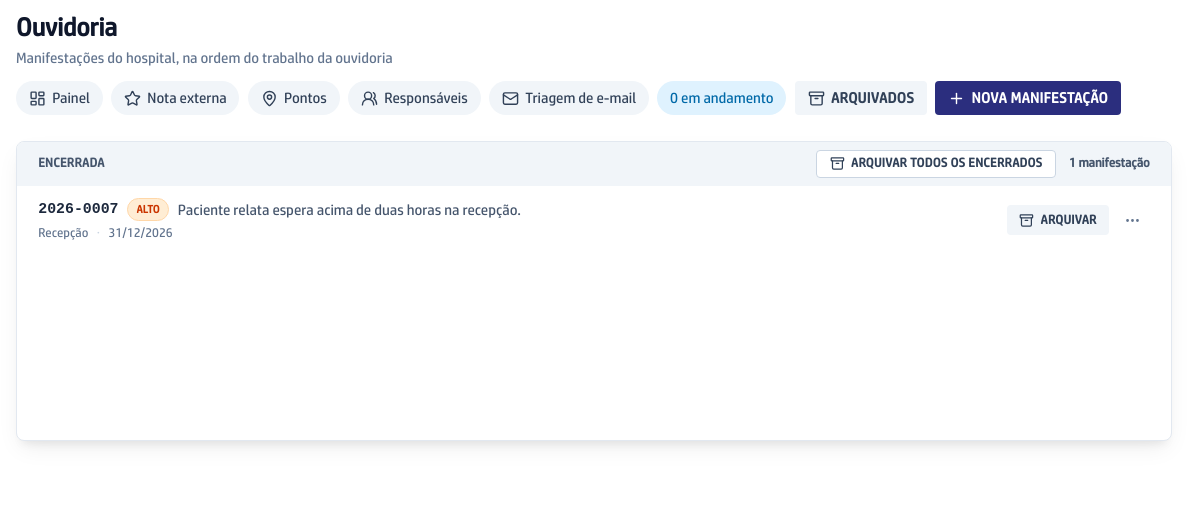
Scenario: a recusa do servidor chega ao ouvidor › erro sem frase confiável do servidor vira frase da casa, e não vazio
Expected: the text "2026-0007" is shown, [38, 199, 119, 220]
Click the button "Arquivar" at (1058, 220), box [1007, 205, 1109, 235]
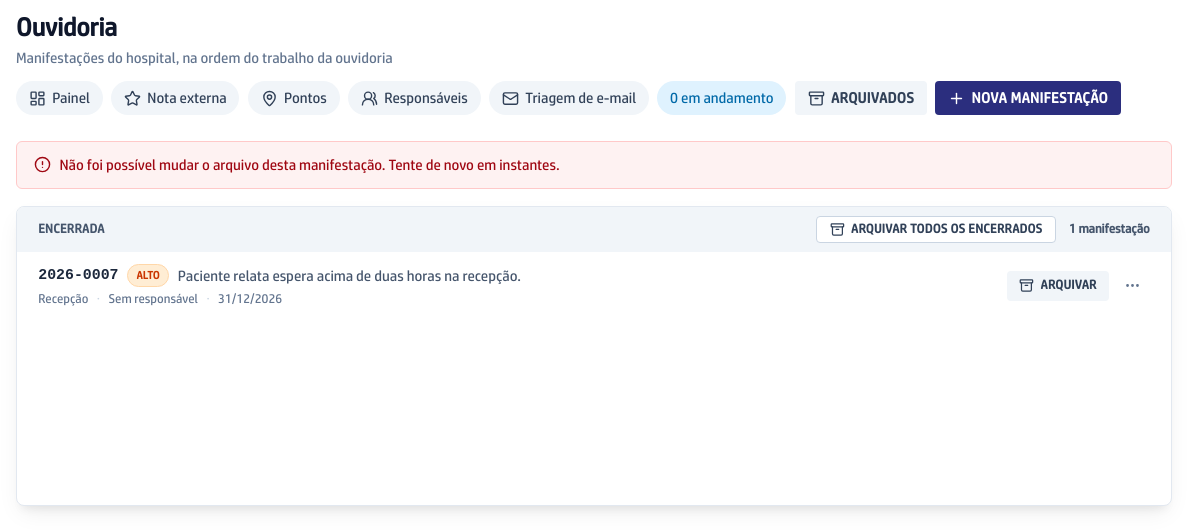
Now the message shows "Não foi possível", box [60, 156, 560, 173]
